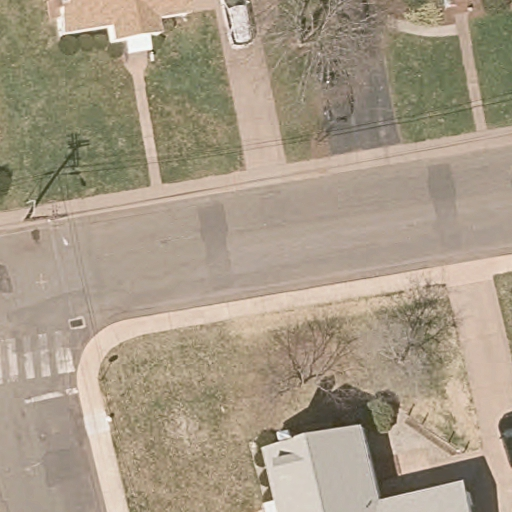DT: (21, 197, 71, 247)
